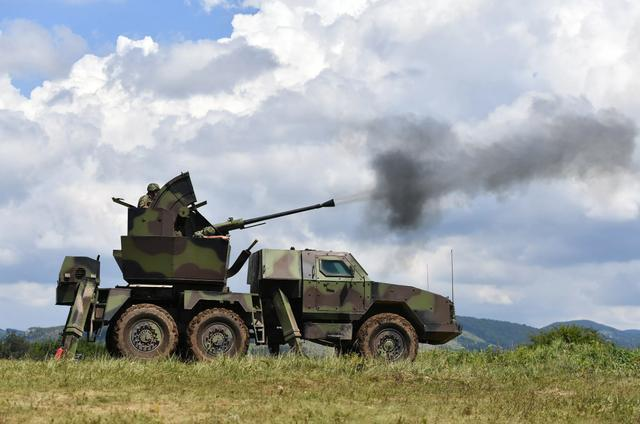MIL_SPG: (56, 172, 460, 361)
